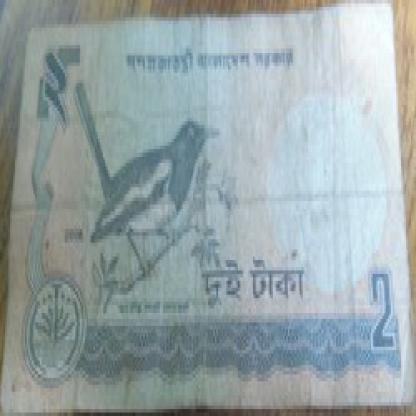Fifty taka: (38, 59, 82, 152)
two taka: (36, 38, 107, 173), (359, 257, 401, 382)
